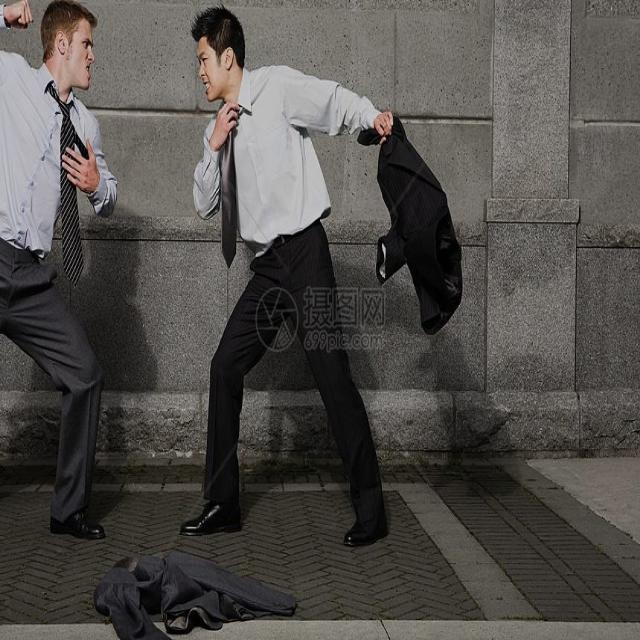fight: (0, 0, 409, 549)
